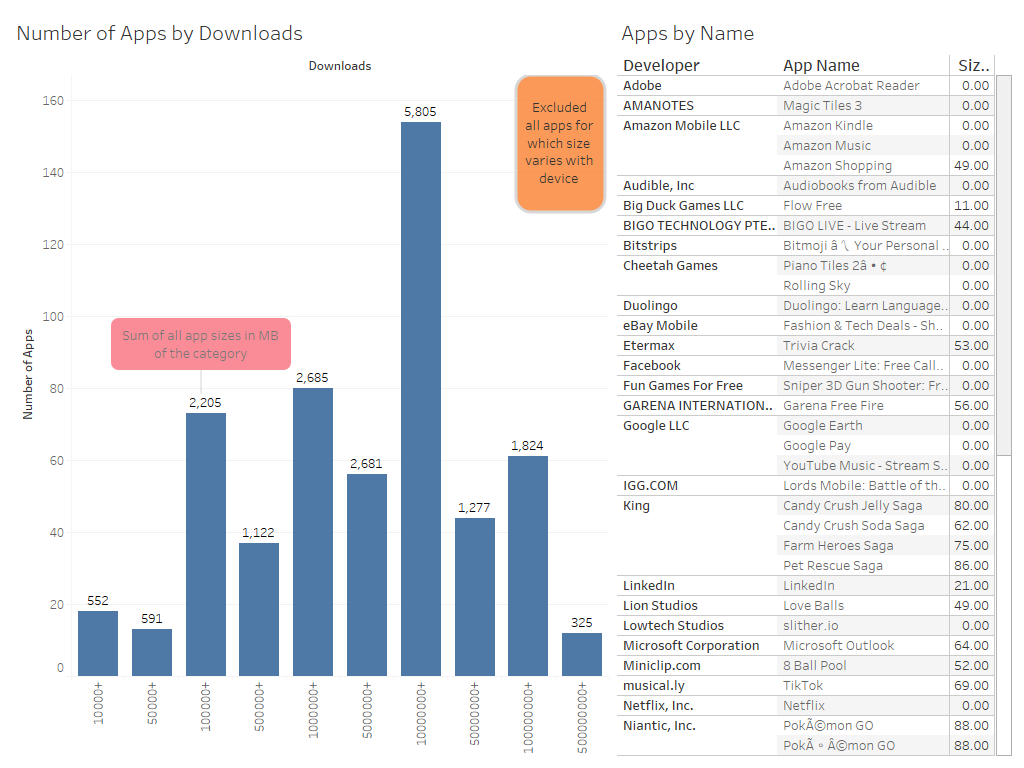

Layout of this report page (visuals, bound fields, positions):
{"tool":"tableau","page":{"name":"Downloads","canvas":[1000,1000],"units":"permille","ordinal":0},"visuals":[{"type":"worksheet","title":"Number of Apps by Downloads","mark":"Automatic","rows":["Title"],"cols":["Downloads"],"box":[7.1,14.9,591.4,970.3]},{"type":"worksheet","title":"Apps by Name","mark":"Automatic","rows":["Developer","Title (copy)"],"box":[598.5,14.9,394.4,970.3]}]}

Visuals, with their boxes on the dashboard's canvas, which has no fixed pixel size, in thousandths of its width and height (x1, y1, x2, y2). These are canvas units, not pixel positions in the 1024x768 screenshot, which may show the page scaled, cropped or inside an application window:
"Number of Apps by Downloads" worksheet: [left=7, top=15, right=598, bottom=985]
"Apps by Name" worksheet: [left=598, top=15, right=993, bottom=985]
